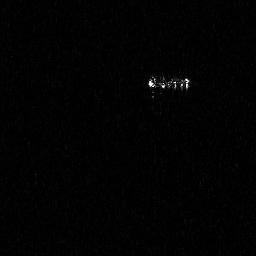ship: (145, 73, 192, 100)
